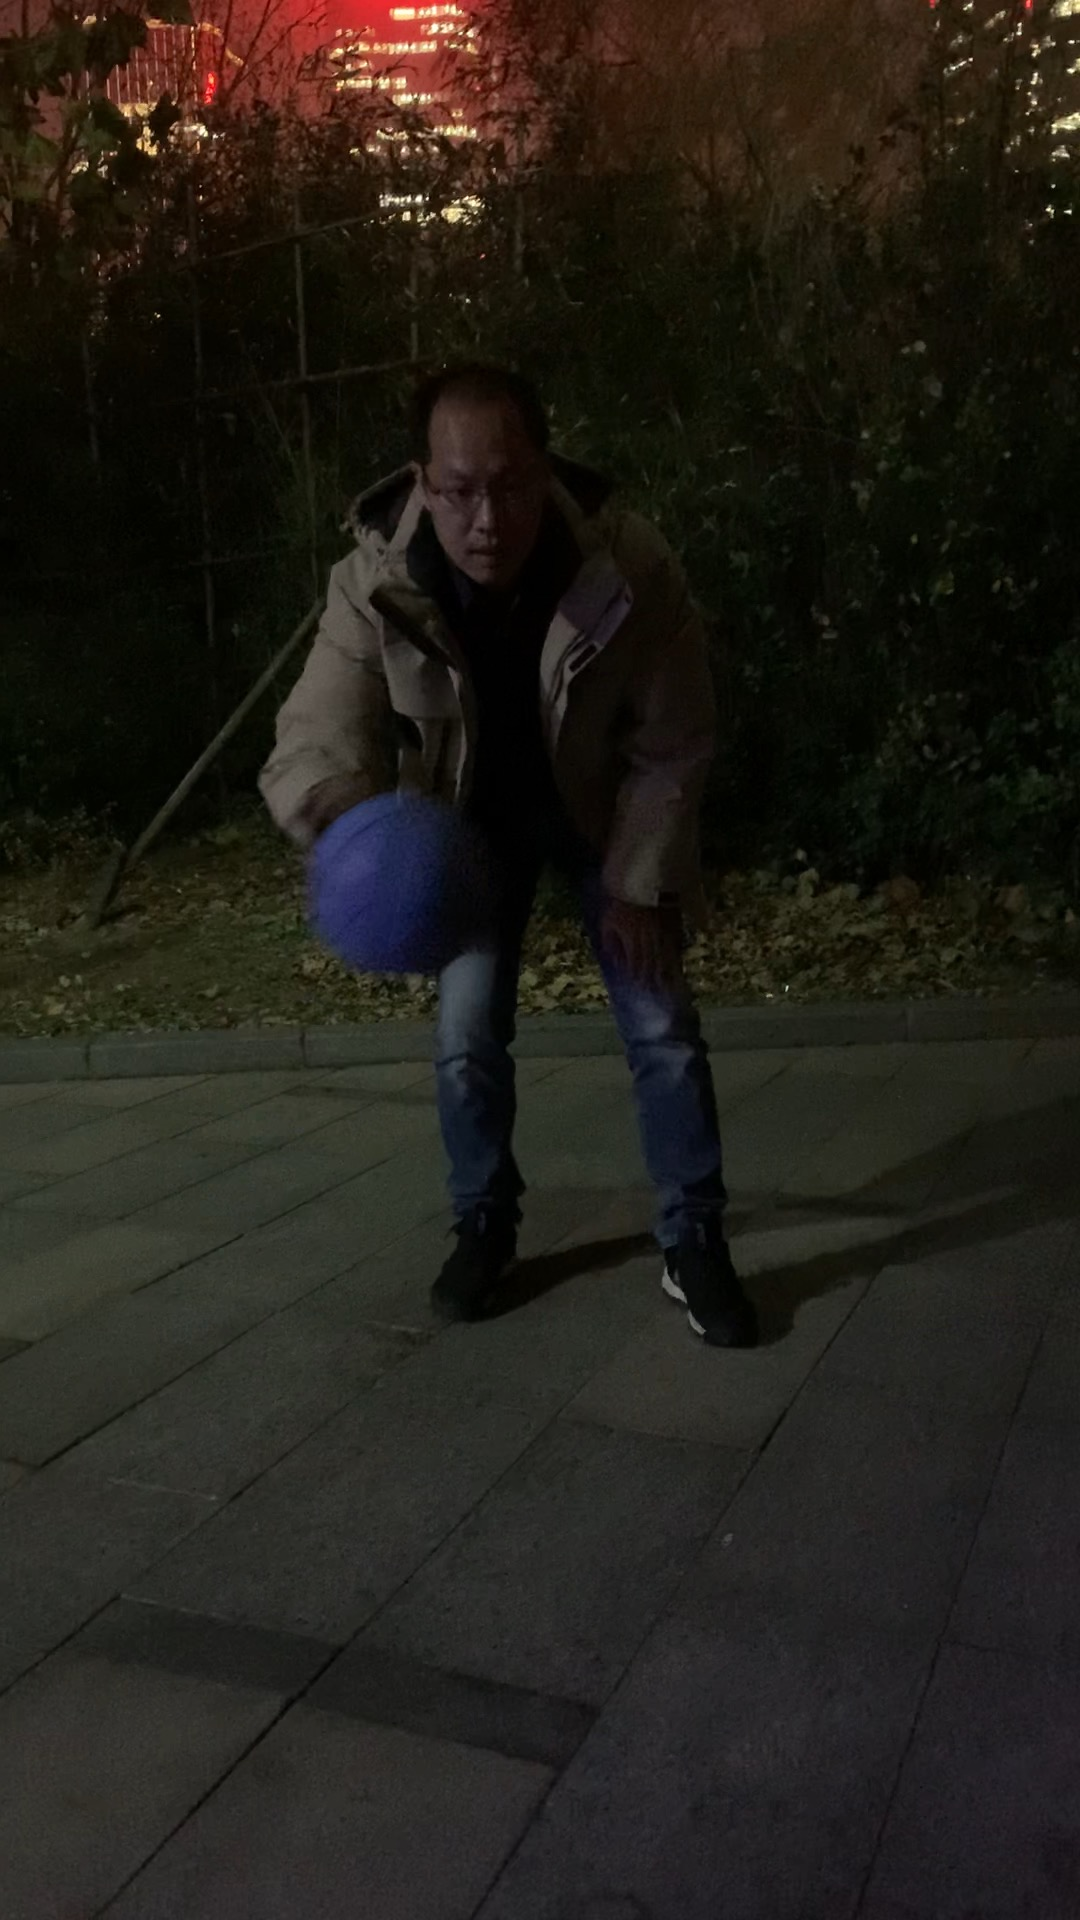ball: (305, 789, 487, 971)
